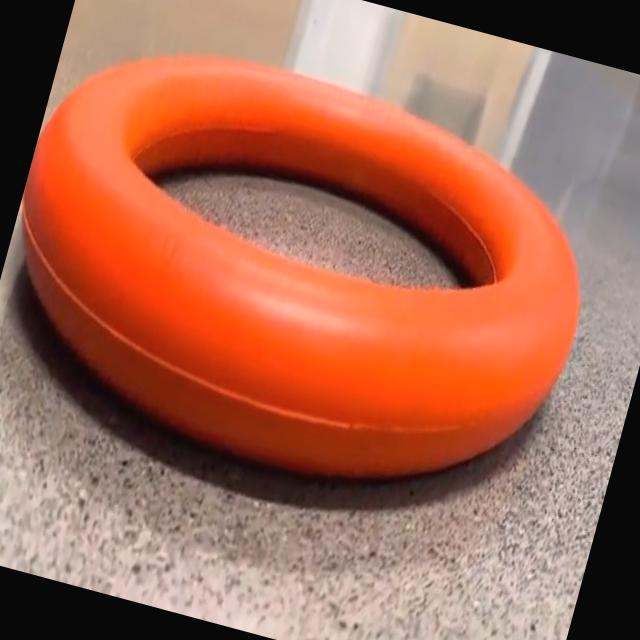note: (23, 58, 578, 478)
